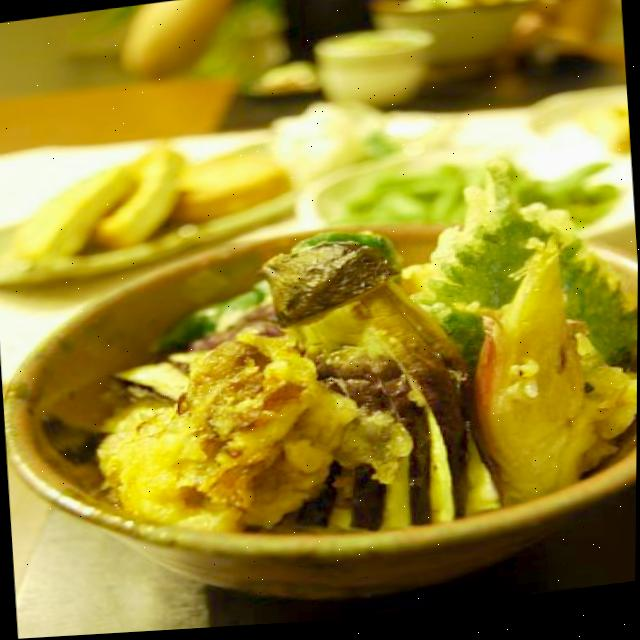蔬菜料理: (8, 187, 639, 592)
